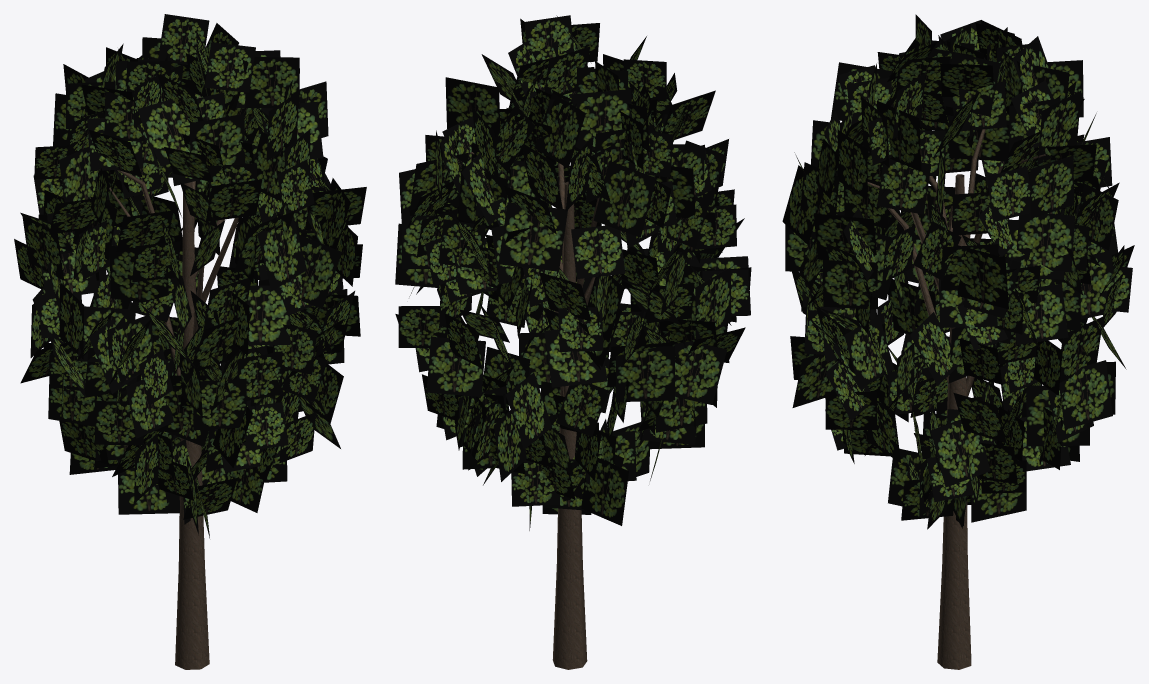
The model's file is tpl_farm_tall_dike_poplar.glb.
3 renders of one model, left to right at view 1: azimuth 30°, elevation 25°; view 2: azimuth 150°, elevation 25°; view 3: azimuth 270°, elevation 25°, orthographic.
Visible parts, largest first — view 1: tpl_farm_tall_dike_poplar; view 2: tpl_farm_tall_dike_poplar; view 3: tpl_farm_tall_dike_poplar.
Boxes of the visible parts, box(x1,y1,x2,y2) form: tpl_farm_tall_dike_poplar: box(14, 14, 366, 669); tpl_farm_tall_dike_poplar: box(395, 15, 751, 669); tpl_farm_tall_dike_poplar: box(782, 14, 1134, 669).
Bounding box in the file's own units: 12.47 × 23.83 × 12.05.
Materials: 2 (2 with a texture image).
